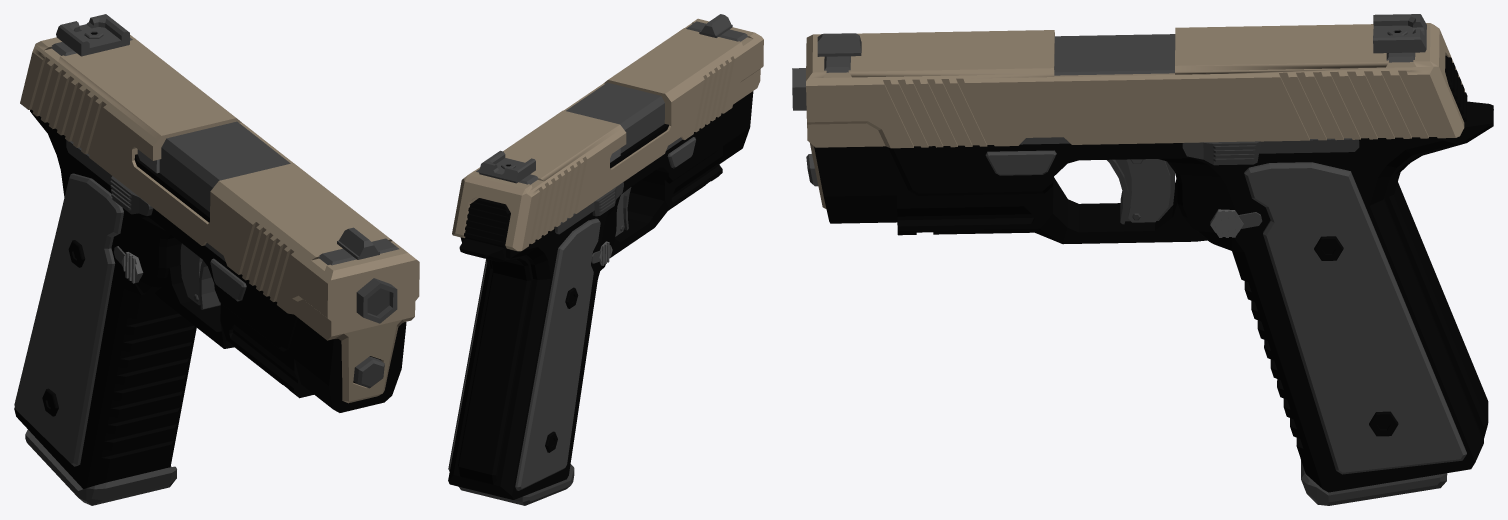
File: Double_Hand_Pistol_Equip_Unequip.fbx
The picture shows the model from 3 angles, left to right: view 1: azimuth 30°, elevation 25°; view 2: azimuth 150°, elevation 25°; view 3: azimuth 270°, elevation 25°; orthographic projection. The views are drawn at different scales.
Visible parts, largest first — view 1: Pistol_L_Receiver, Pistol_L_BarrelGuard, Pistol_L_Sight, Pistol_L_Mag, Pistol_L_Trigger, Pistol_L_Barrel; view 2: Pistol_L_Receiver, Pistol_L_BarrelGuard, Pistol_L_Sight, Pistol_L_Mag, Pistol_L_Trigger; view 3: Pistol_L_Receiver, Pistol_L_BarrelGuard, Pistol_L_Sight, Pistol_L_Trigger, Pistol_L_Mag.
Boxes of the visible parts, x1=… form: Pistol_L_Receiver: x1=14, y1=109, x2=406, y2=488; Pistol_L_BarrelGuard: x1=20, y1=35, x2=419, y2=403; Pistol_L_Sight: x1=51, y1=14, x2=399, y2=265; Pistol_L_Mag: x1=25, y1=430, x2=176, y2=505; Pistol_L_Trigger: x1=180, y1=243, x2=220, y2=309; Pistol_L_Barrel: x1=356, y1=278, x2=397, y2=323; Pistol_L_Receiver: x1=448, y1=91, x2=753, y2=499; Pistol_L_BarrelGuard: x1=452, y1=18, x2=763, y2=251; Pistol_L_Sight: x1=476, y1=14, x2=747, y2=184; Pistol_L_Mag: x1=459, y1=464, x2=574, y2=505; Pistol_L_Trigger: x1=615, y1=187, x2=631, y2=236; Pistol_L_Receiver: x1=806, y1=101, x2=1493, y2=492; Pistol_L_BarrelGuard: x1=806, y1=23, x2=1467, y2=208; Pistol_L_Sight: x1=817, y1=14, x2=1426, y2=72; Pistol_L_Trigger: x1=1107, y1=159, x2=1174, y2=224; Pistol_L_Mag: x1=1301, y1=460, x2=1447, y2=505.
Size of the model in its own units: 238 by 983 by 1358.
